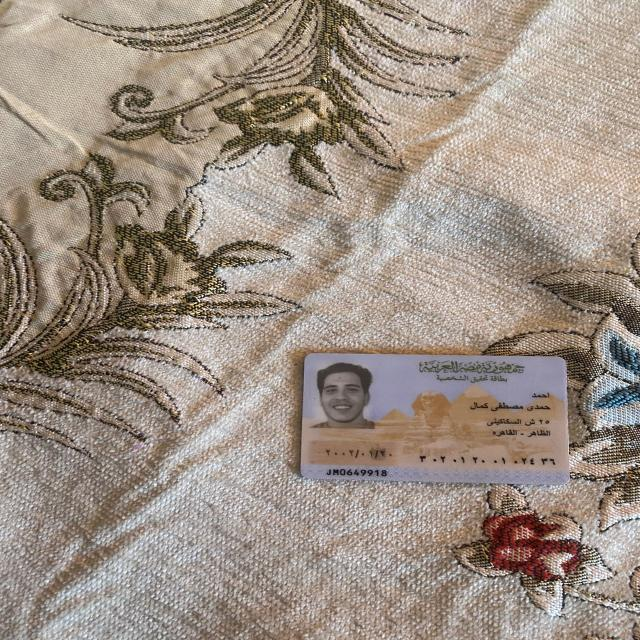ID-cards: (289, 346, 579, 499)
